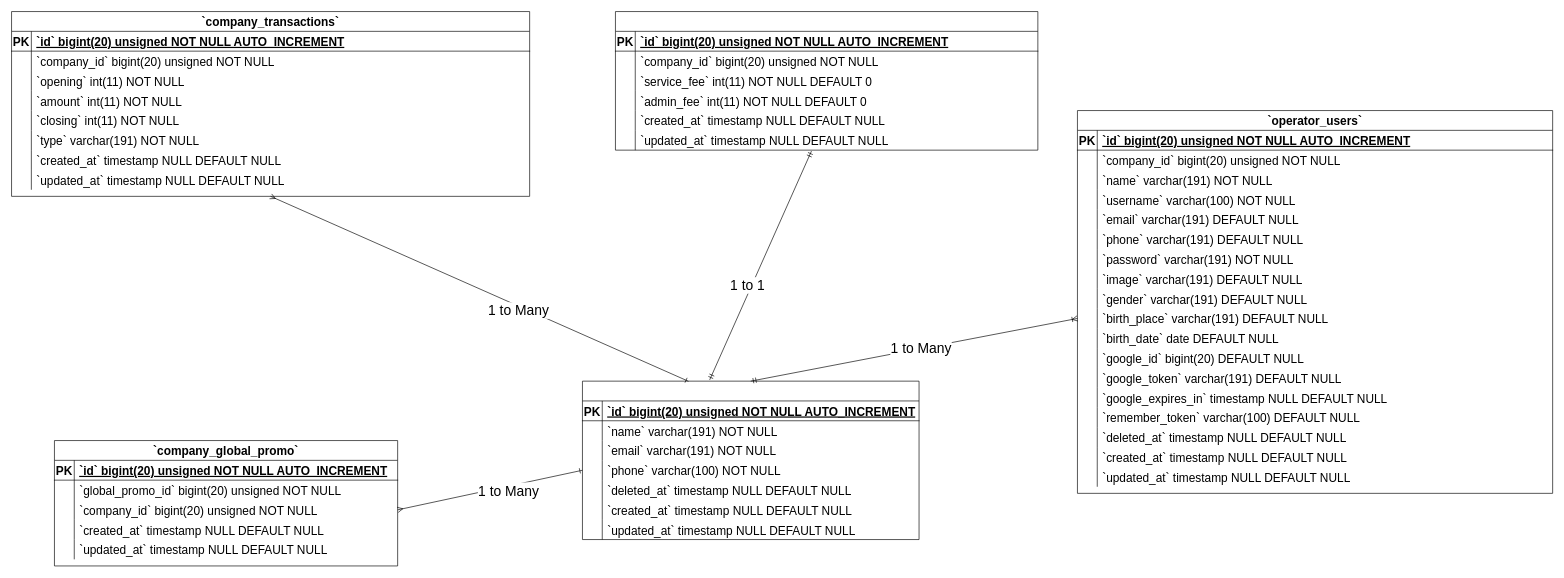
This 1564x578 diagram has some shape labels left out. Each missing label, with the box of its shape:
`companies`: (582, 380, 919, 540)
`costs`: (615, 11, 1038, 150)
